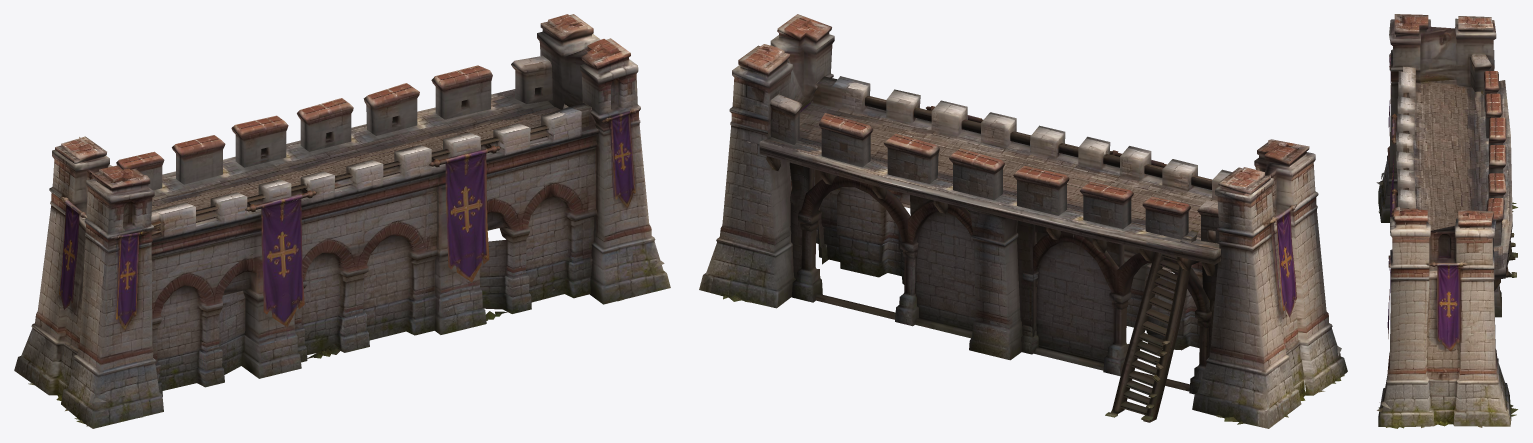
File: Wall.fbx
3 renders of one model, left to right at view 1: azimuth 30°, elevation 25°; view 2: azimuth 150°, elevation 25°; view 3: azimuth 270°, elevation 25°, orthographic. The views are drawn at different scales.
Parts seen in each view (by area): view 1: stone wall; view 2: stone wall; view 3: stone wall.
Boxes of the visible parts, x1=… form: stone wall: x1=14, y1=14, x2=670, y2=428; stone wall: x1=699, y1=14, x2=1347, y2=428; stone wall: x1=1376, y1=14, x2=1517, y2=428.
Size of the model in its own units: 1800 by 768 by 453.
